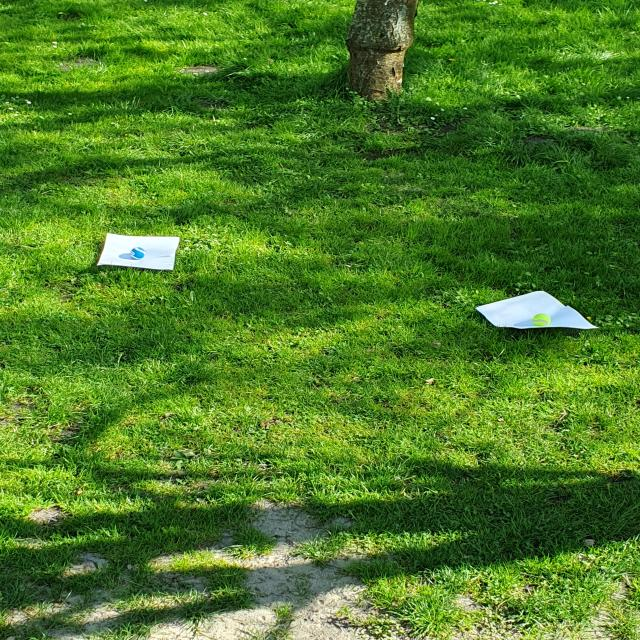blue: (130, 247, 146, 260)
green: (532, 313, 550, 327)
